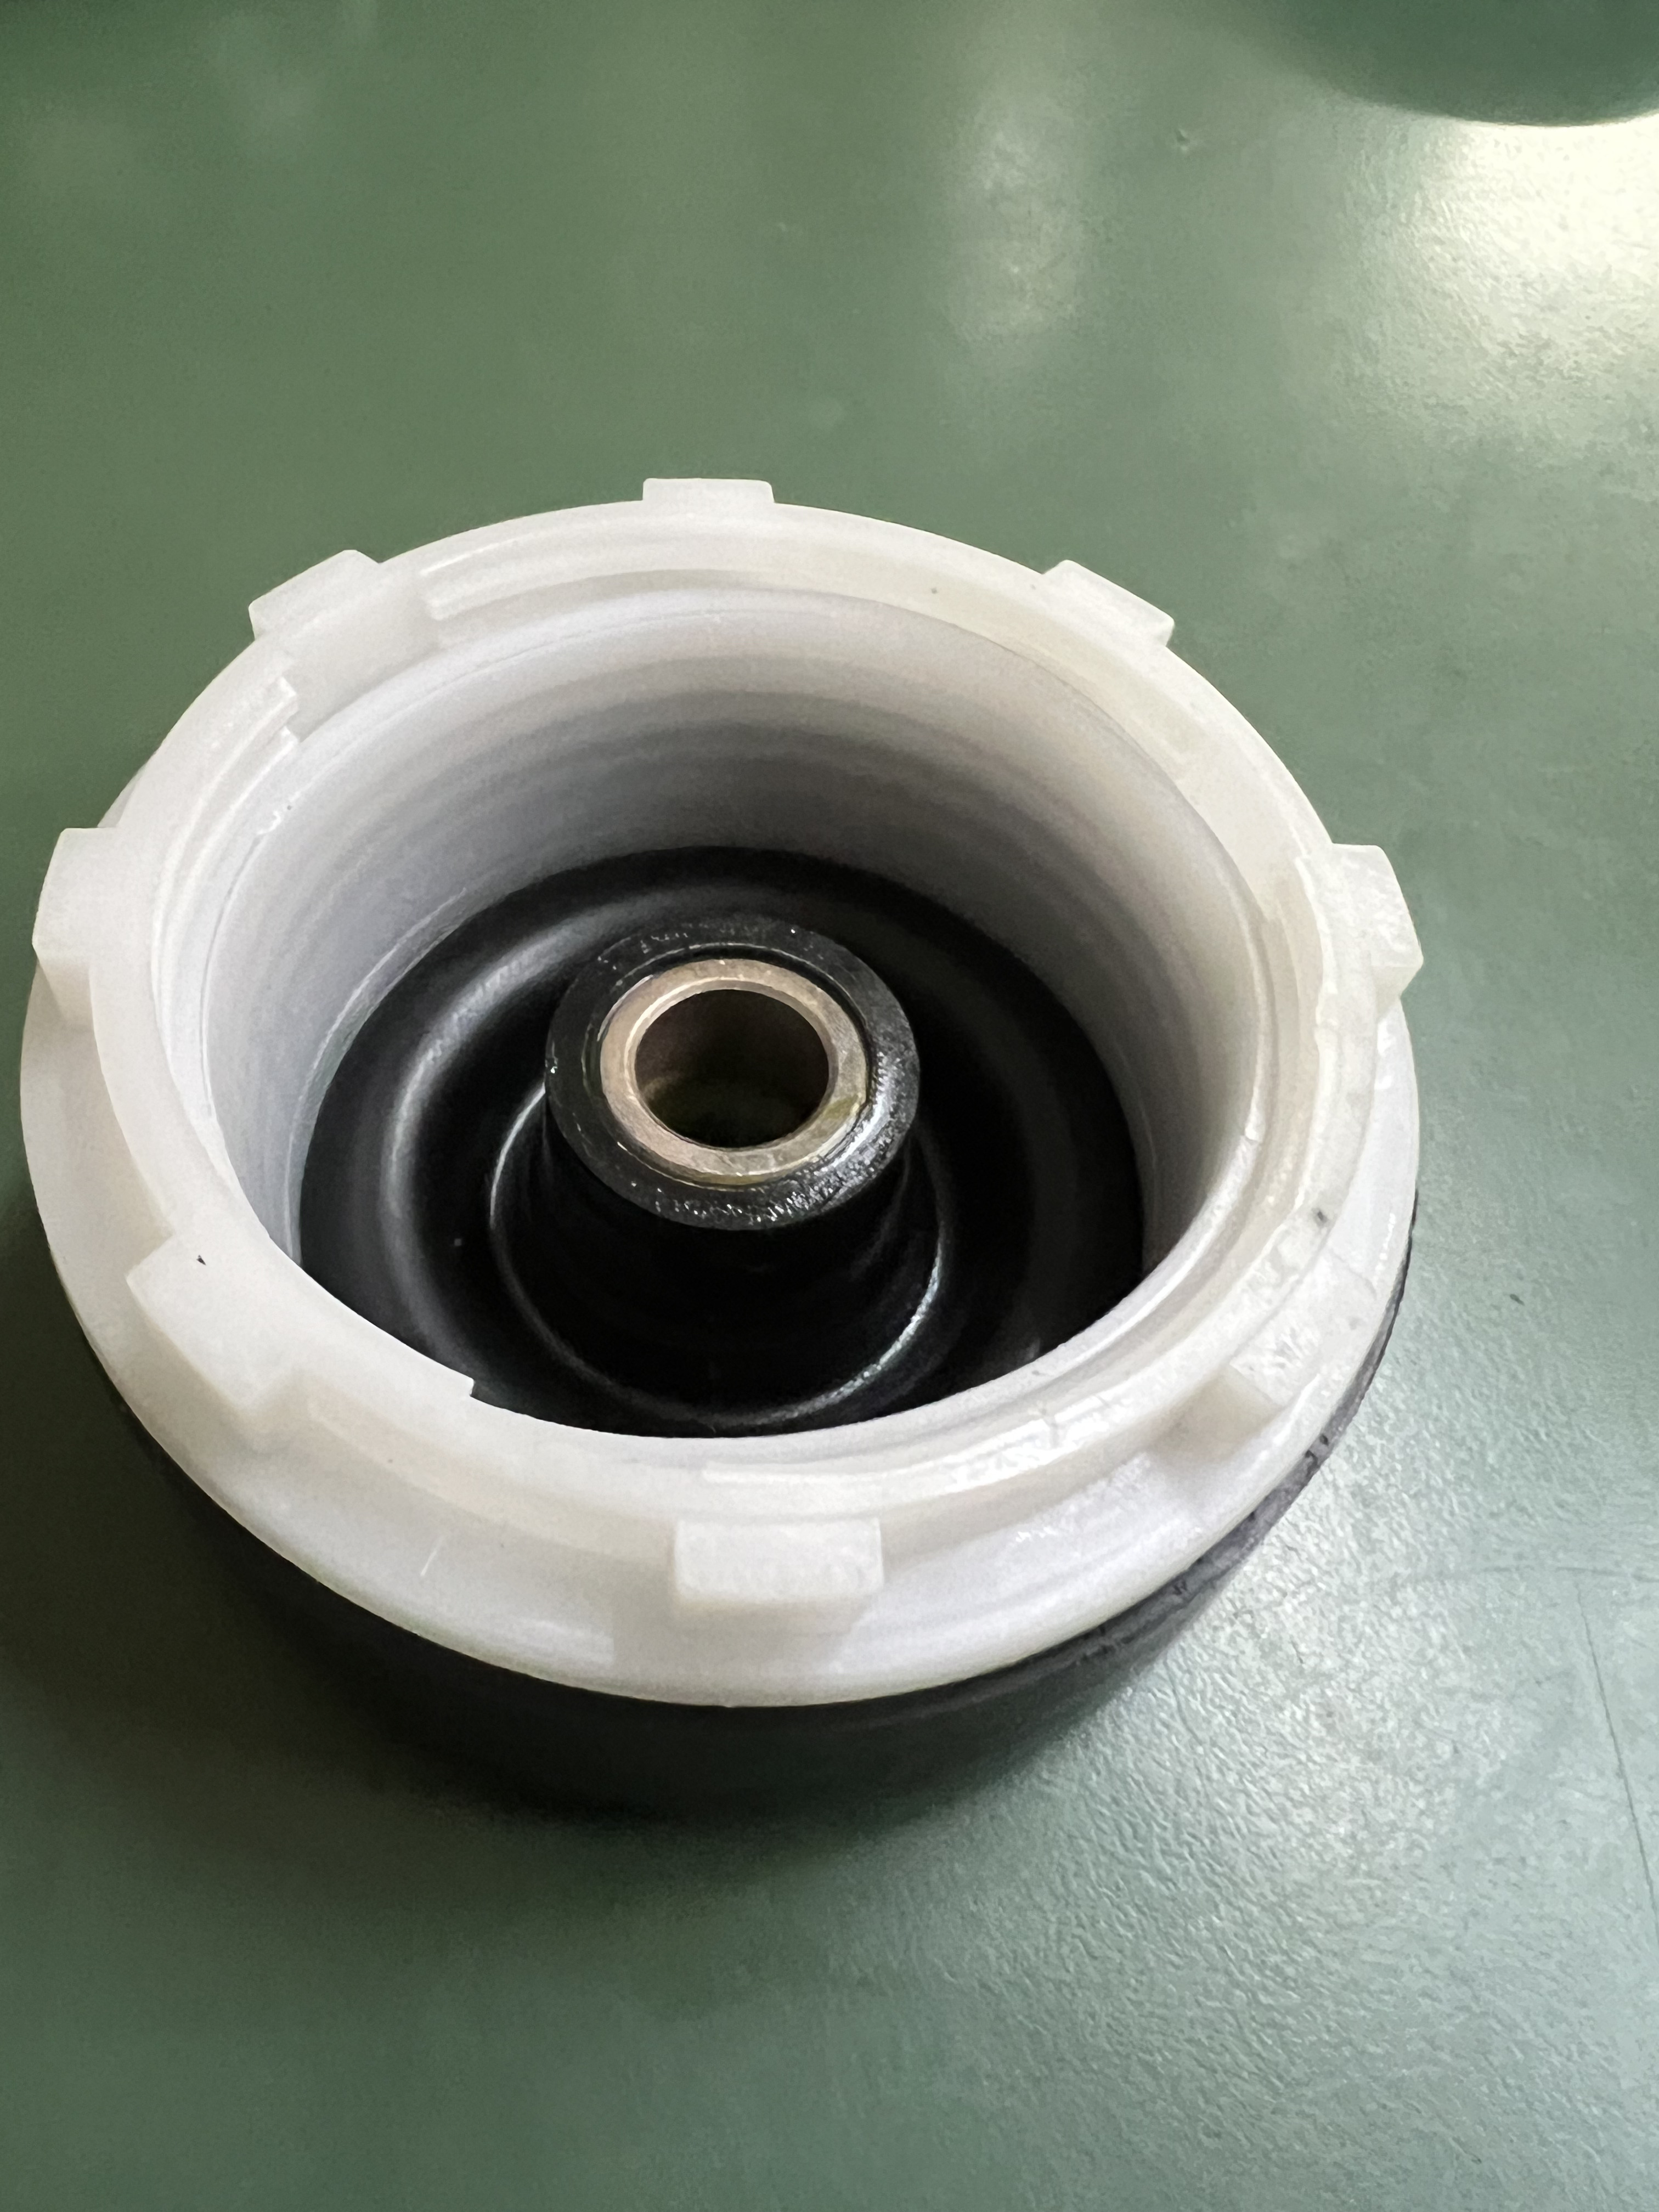lever: (12, 475, 1441, 1740)
